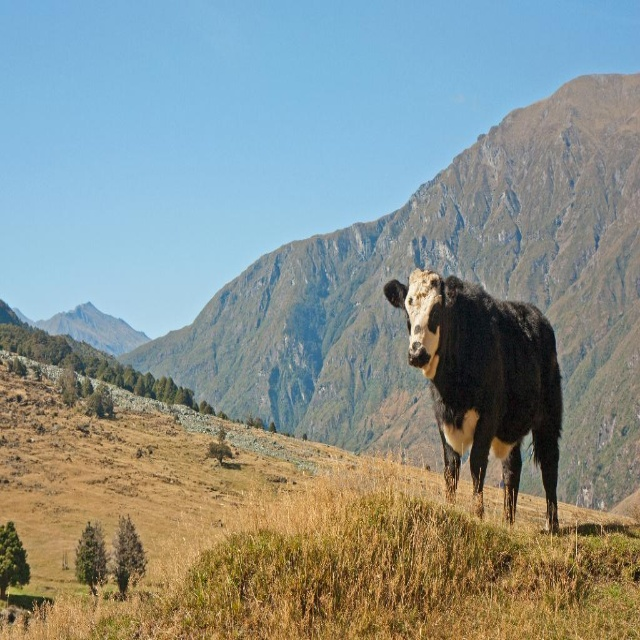Cattle: (383, 267, 564, 536)
